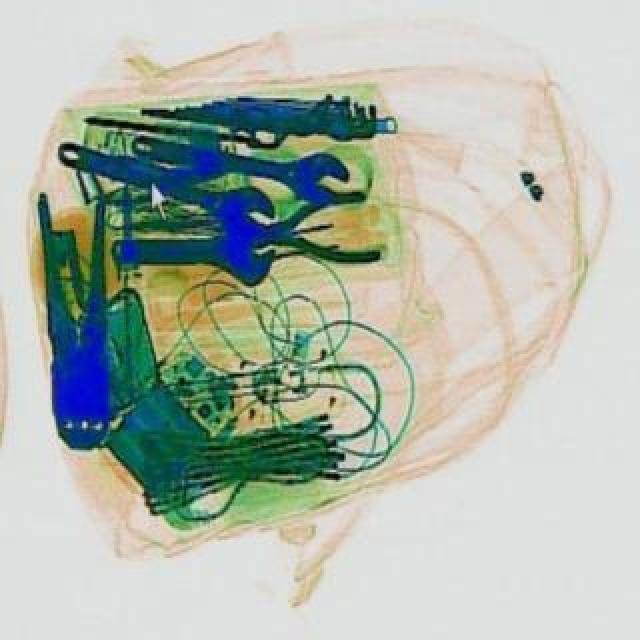scissors: (46, 118, 280, 246), (126, 112, 352, 204), (106, 216, 272, 284)
wrench: (28, 184, 124, 446), (244, 188, 380, 260)
